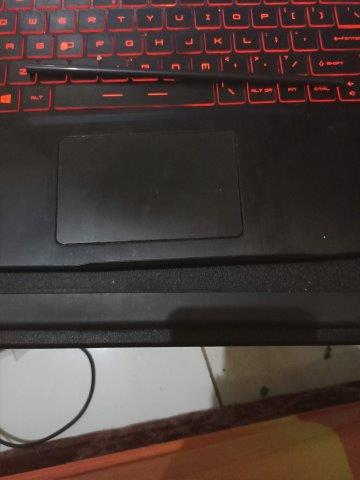sedotan: (26, 64, 340, 86)
